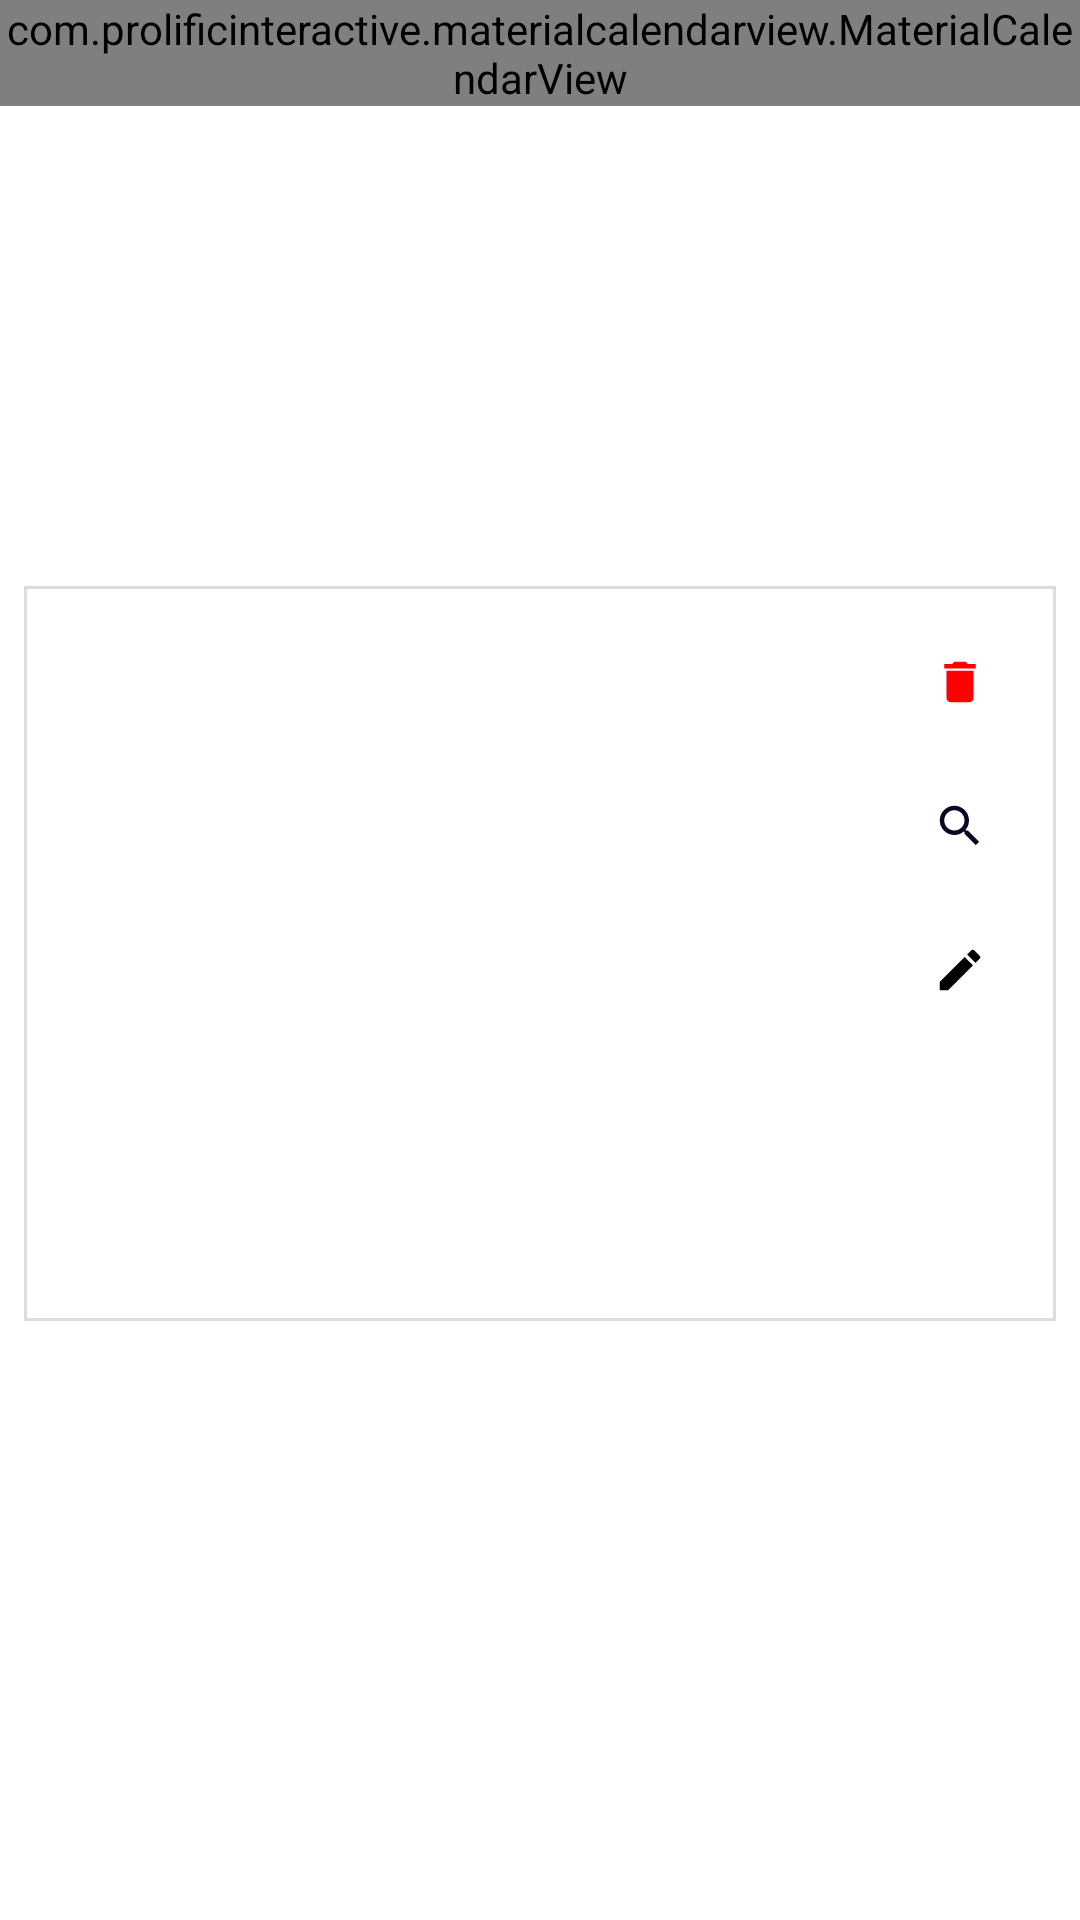

Named icons in this screenshot (1080 × 1920) and their centers, (x=x, y=y):
delete: (x=960, y=682)
edit: (x=960, y=970)
search: (x=959, y=825)
